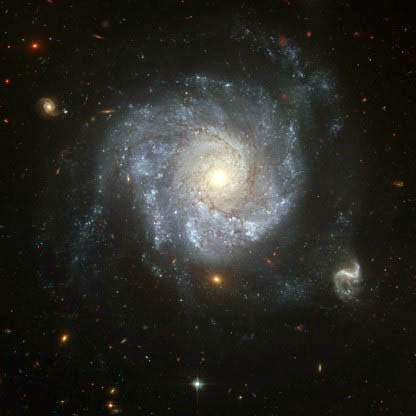NGC 1309: (37, 46, 380, 325)
